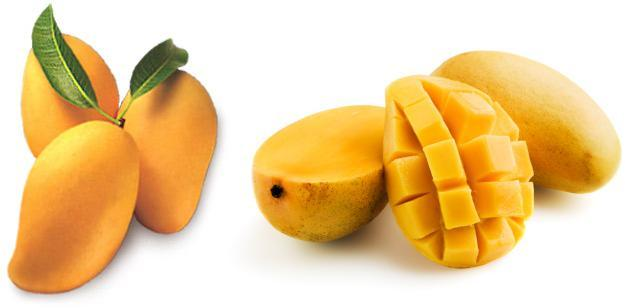mango: (384, 77, 534, 266), (439, 44, 616, 191), (7, 122, 143, 300), (244, 99, 384, 257), (122, 74, 223, 233)
